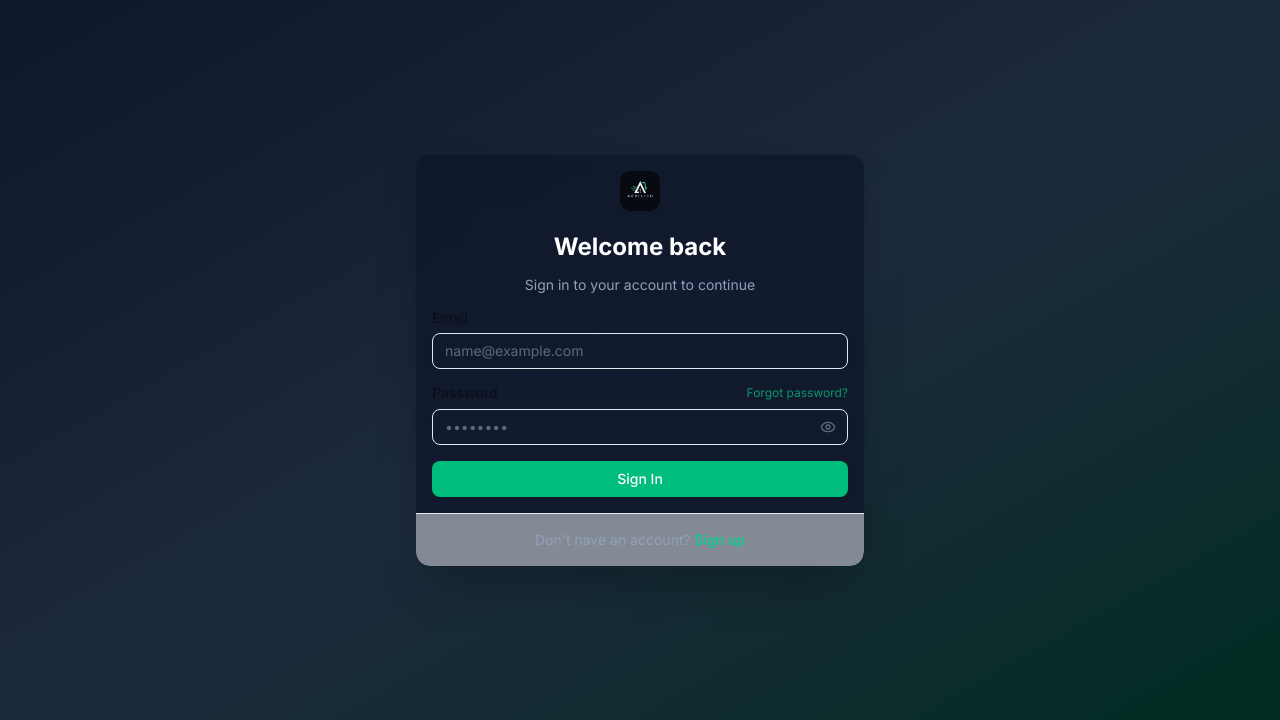
Test case: Login Page – Validation › empty form submit shows 'Email is required'
This screenshot has width=1280, height=720.
What coordinates should you click on to do the following:
click the submit button
I would click on:
 (640, 479)
Its box is [432,461,848,497].
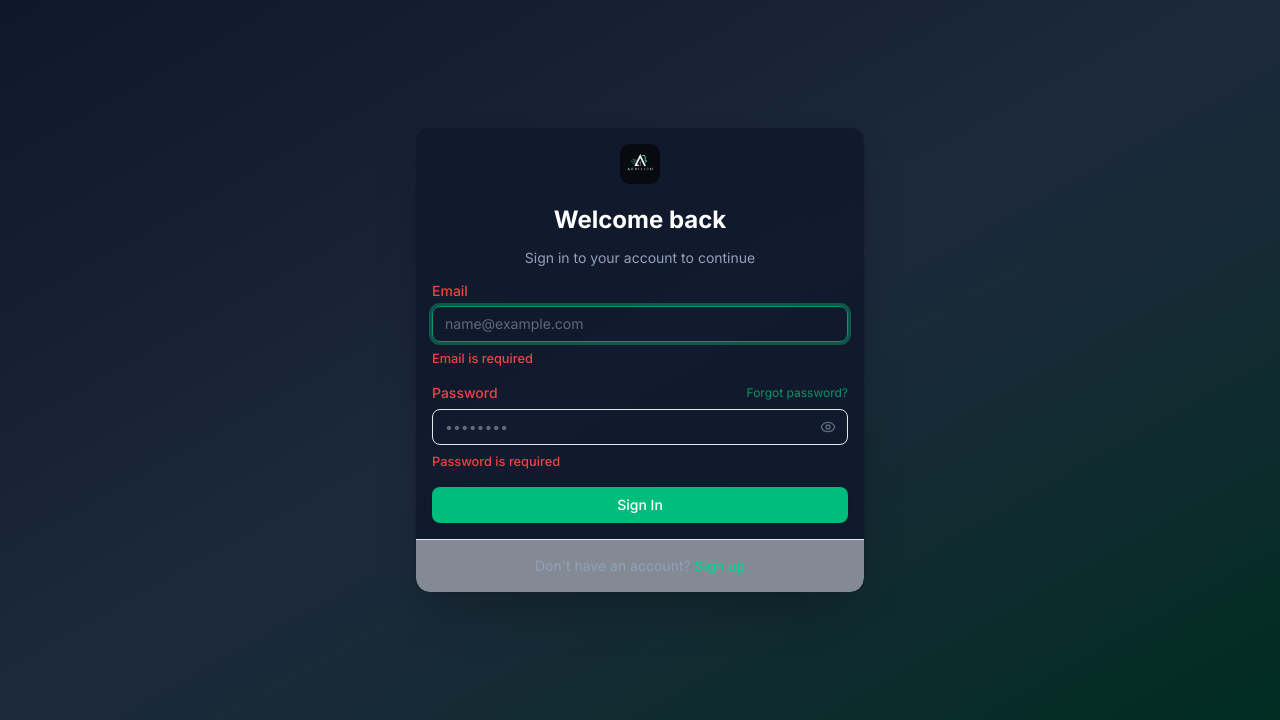
Expected: the text "Email is required" is shown, [432,351,533,366]
